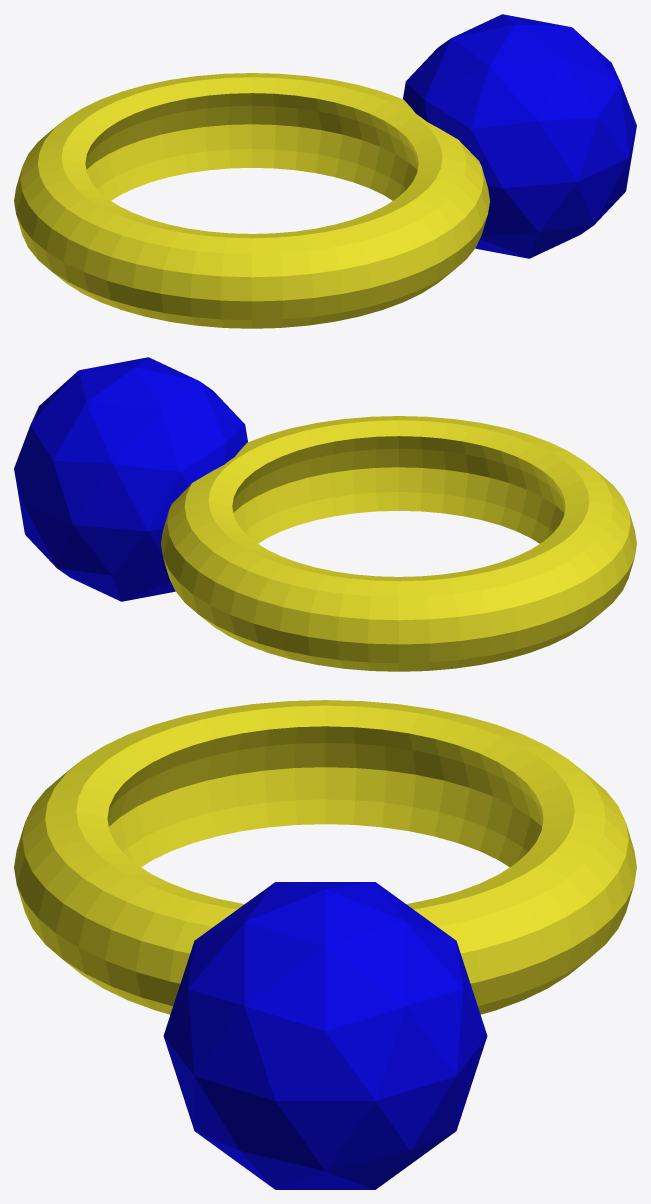
File: BlueRing.fbx
3 views of the same model, one above another, from view 1: azimuth 30°, elevation 25°; view 2: azimuth 150°, elevation 25°; view 3: azimuth 270°, elevation 25° (orthographic). The views are drawn at different scales.
Visible parts, largest first — view 1: Torus, Icosphere; view 2: Torus, Icosphere; view 3: Torus, Icosphere.
Boxes of the visible parts, x1,y1,x2,y2 form: Torus: (14,73,489,328); Icosphere: (403,14,636,258); Torus: (161,416,636,671); Icosphere: (14,357,247,601); Torus: (14,700,636,1014); Icosphere: (163,882,487,1189).
Size of the model in its own units: 347 by 130 by 250.
